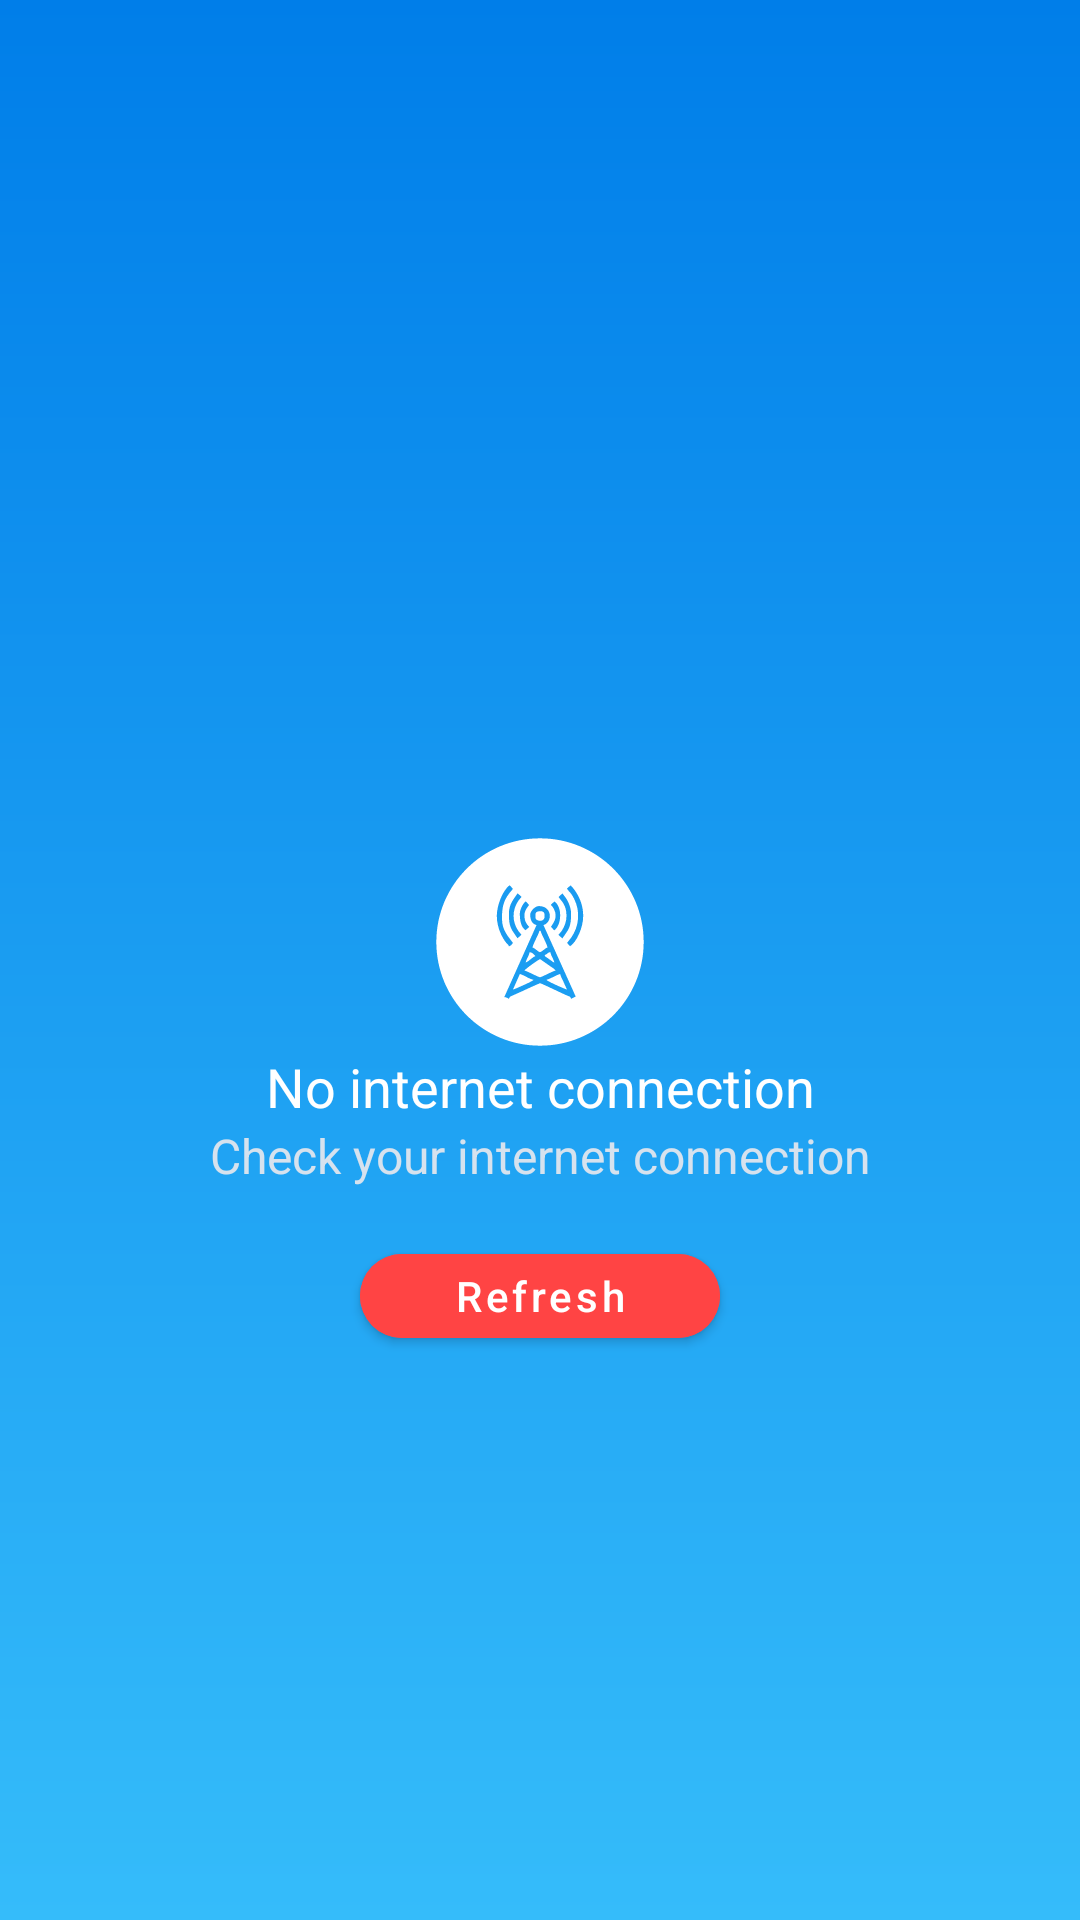

Named icons in this screenshot (1080w x 1920h) and their centers, point (x, y):
cell tower: point (540, 942)
